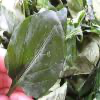Bell_pepper leaf: (4, 7, 68, 98)
